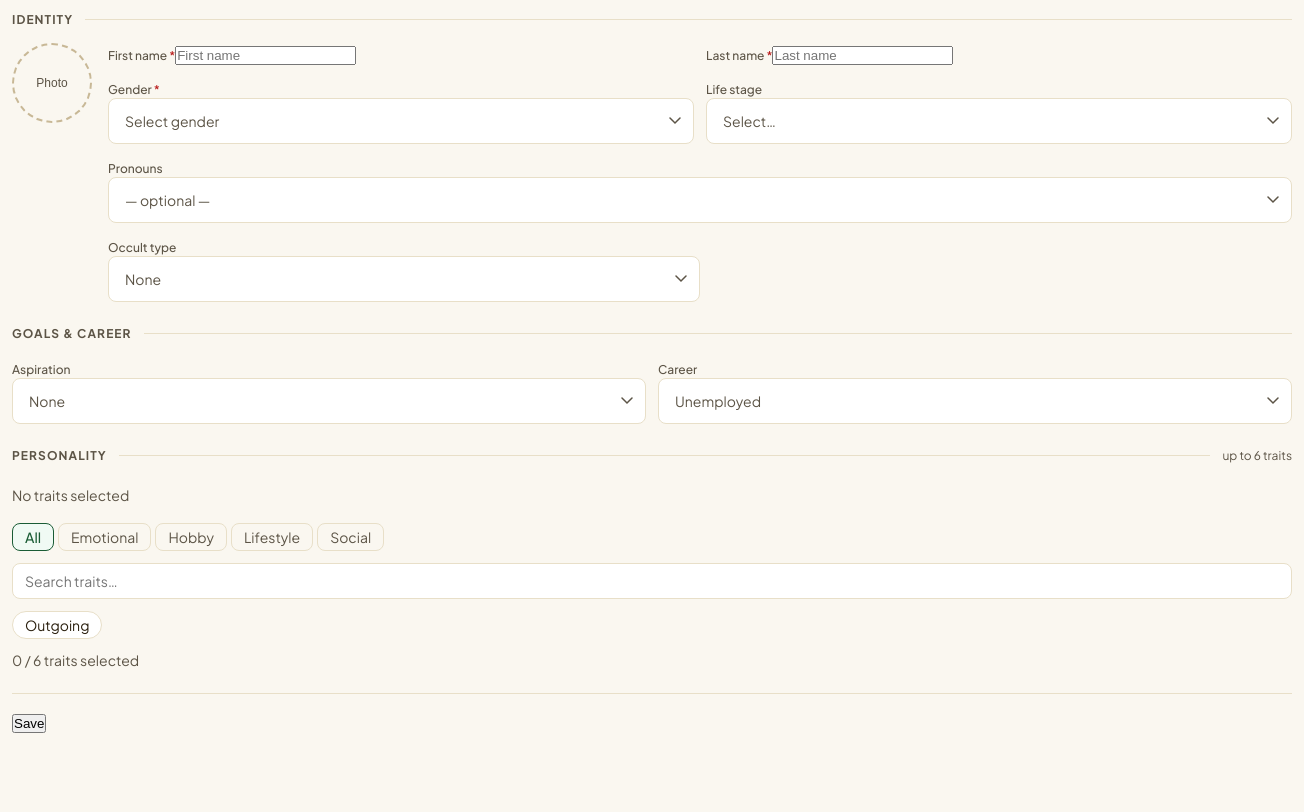
SimForm › shows validation errors when submitted with required fields empty
Click the button "Save" at [29, 724], box [12,714,46,733]
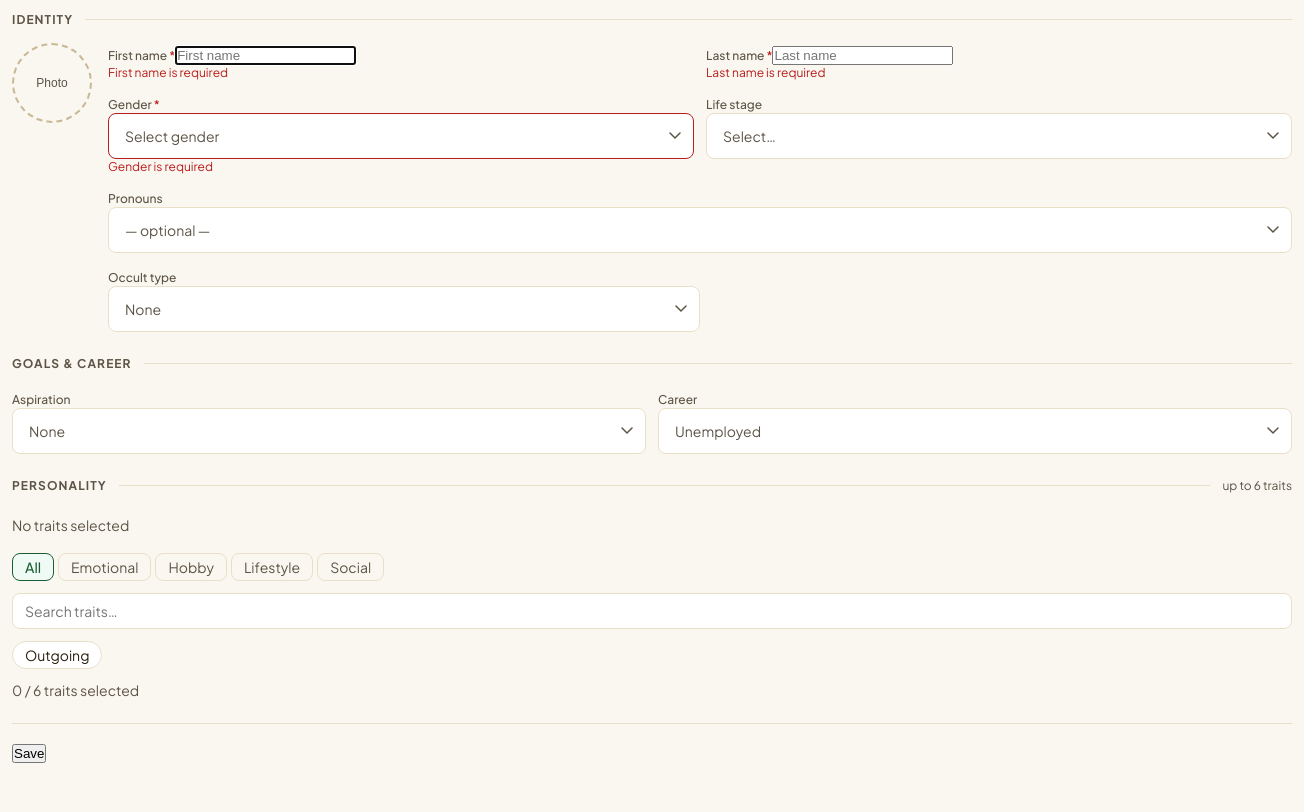
Expected: the text "First name is required" is shown, [108,65,228,80]
Expected: the text "Last name is required" is shown, [706,65,826,80]
Expected: the text "Gender is required" is shown, [108,159,213,174]
